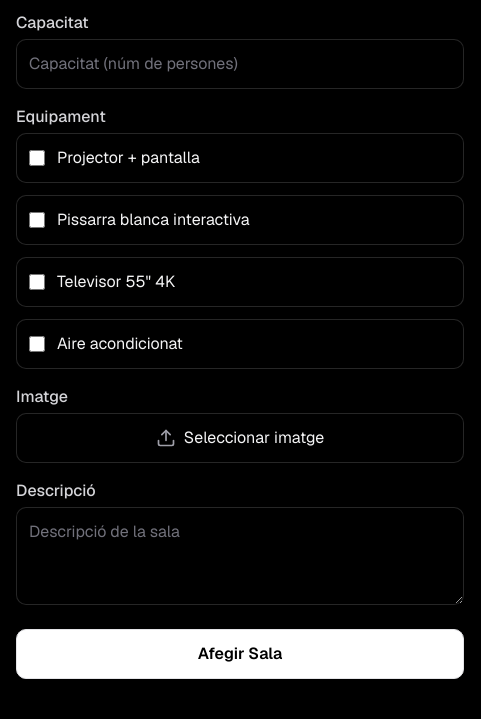
Test: Component AddRoomForm › ha de mostrar un error si s'intenta enviar sense nom
The image size is (481, 719).
(page scrolled)
Click the button "Afegir Sala" at (240,654), box x1=16 y1=629 x2=464 y2=679
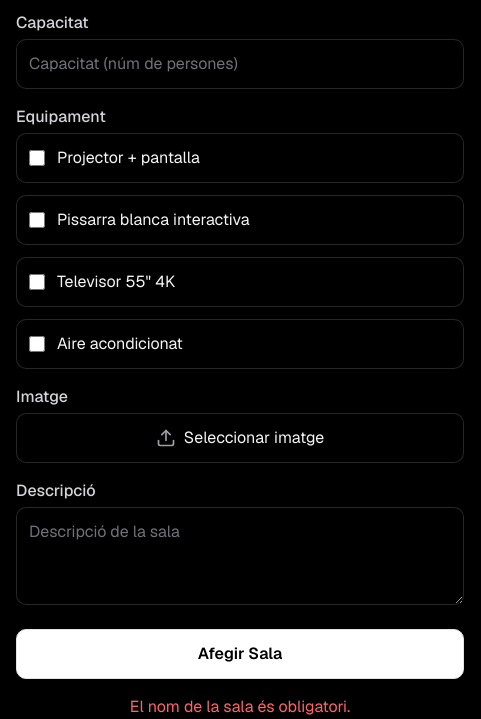
Expected: the text "El nom de la sala és obligatori." is shown, x1=130 y1=696 x2=350 y2=717
